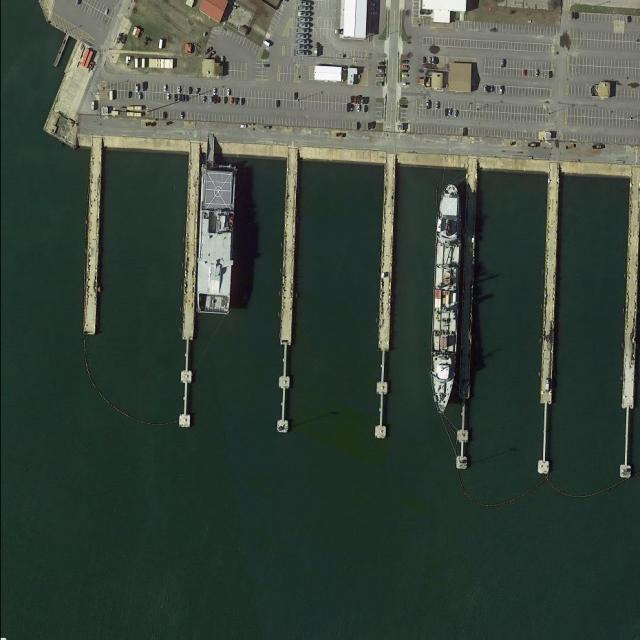Auxiliary Ships: (194, 163, 237, 315)
Cargo: (427, 183, 465, 416)
Dock: (454, 169, 480, 469), (537, 173, 561, 473), (373, 167, 398, 438), (176, 147, 200, 426), (277, 158, 301, 432), (84, 149, 102, 330)
